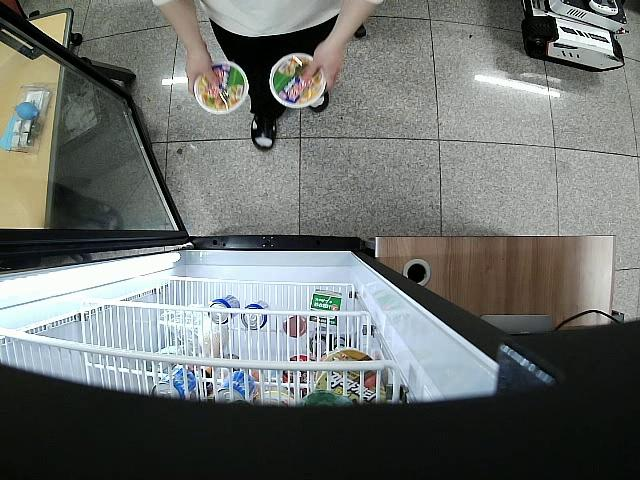00_hand: (185, 43, 221, 95), (308, 41, 344, 93)
09_yukGaeJang: (193, 62, 249, 115), (271, 55, 327, 108)
